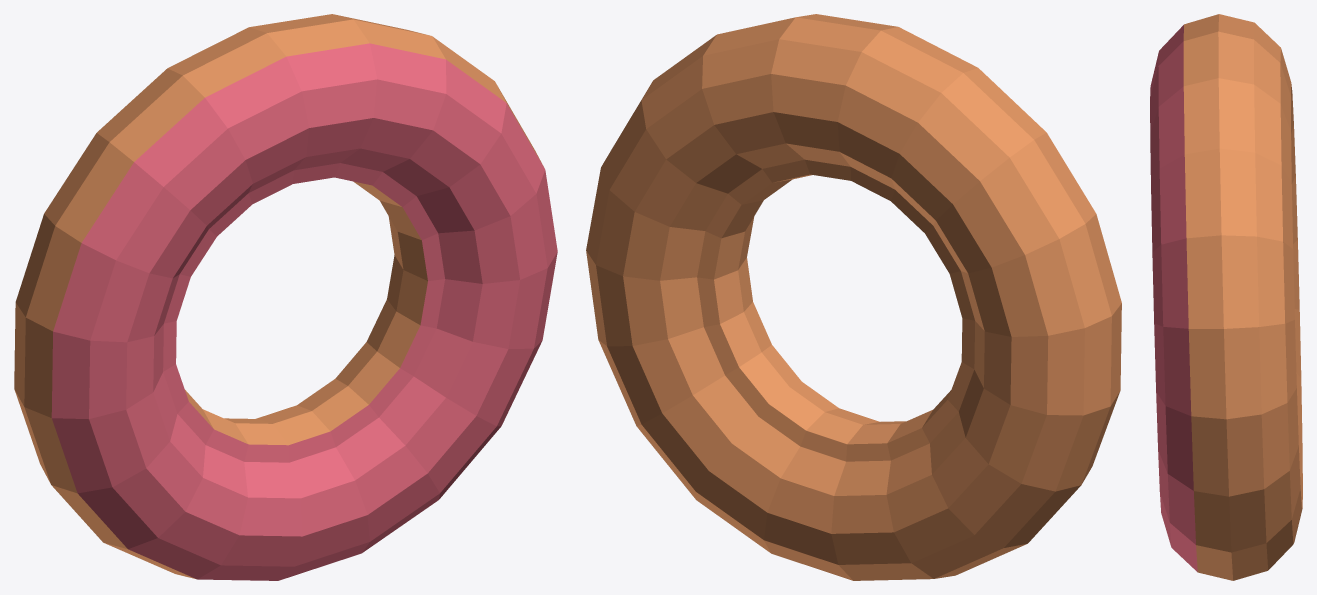
Rendered from donut.fbx.
3 views of the same model, side by side, from view 1: azimuth 30°, elevation 25°; view 2: azimuth 150°, elevation 25°; view 3: azimuth 270°, elevation 25° (orthographic). The views are drawn at different scales.
Visible parts, largest first — view 1: Torus.001; view 2: Torus.001; view 3: Torus.001.
Part boxes in pixels (x1,y1,x2,y2): Torus.001: [14, 14, 557, 580]; Torus.001: [586, 14, 1121, 580]; Torus.001: [1150, 14, 1302, 580].
Bounding box in the file's own units: 169 × 169 × 45.59.
